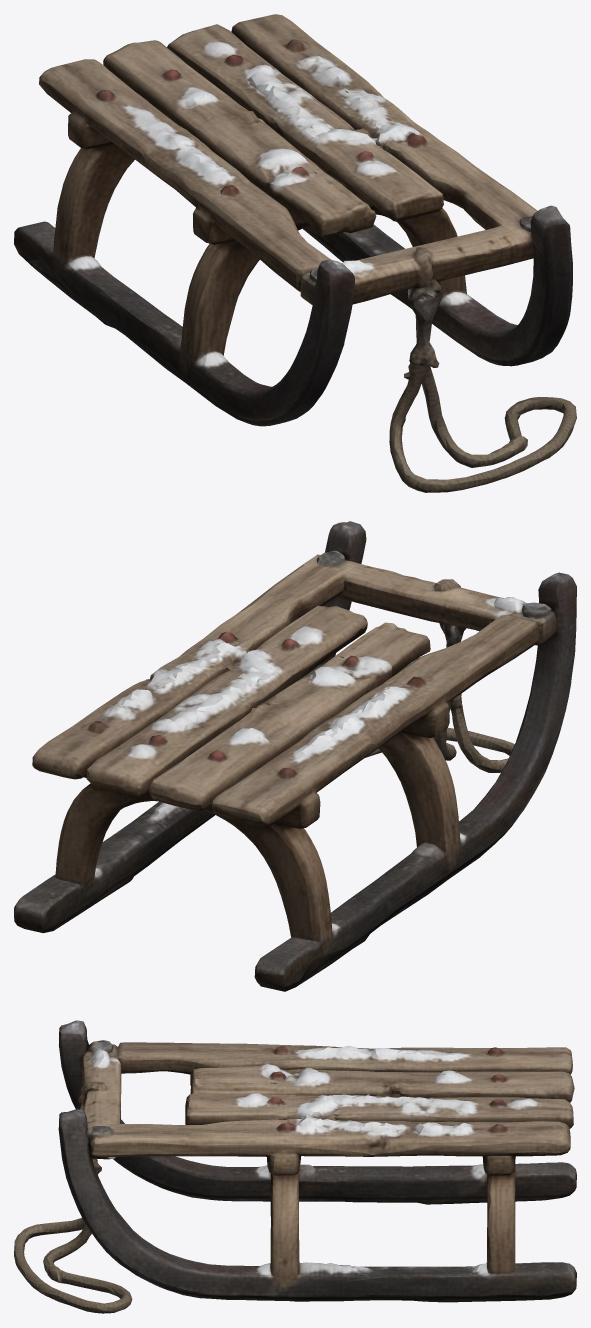
3 views of the same model, one above another, from view 1: azimuth 30°, elevation 25°; view 2: azimuth 150°, elevation 25°; view 3: azimuth 270°, elevation 25° (orthographic). The views are drawn at different scales.
Visible parts, largest first — view 1: world; view 2: world; view 3: world.
Boxes of the visible parts, bbox=[...] form: world: bbox=[14, 14, 576, 492]; world: bbox=[14, 521, 576, 991]; world: bbox=[14, 1020, 576, 1313].
Bounding box in the file's own units: 0.9 × 0.7011 × 1.88.
Materials: 1 (1 with a texture image).
